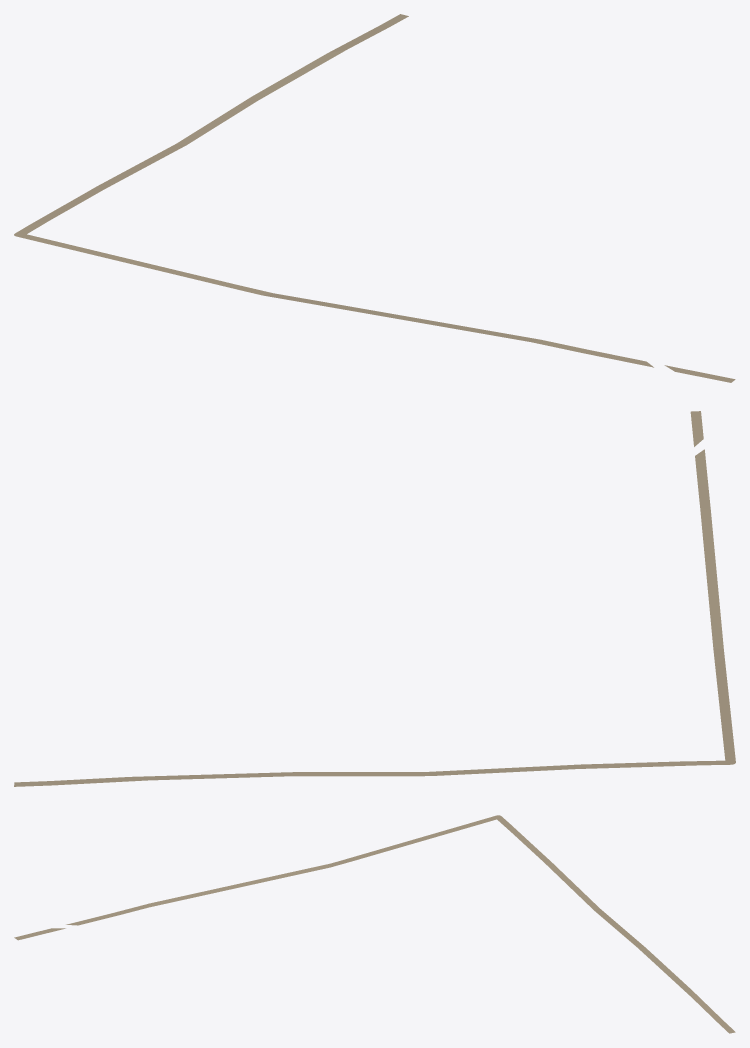
The model's file is farm_33_39_track.glb.
3 renders of one model, top to bottom at view 1: azimuth 30°, elevation 25°; view 2: azimuth 150°, elevation 25°; view 3: azimuth 270°, elevation 25°, orthographic. The views are drawn at different scales.
Visible parts, largest first — view 1: geometry_0; view 2: geometry_0; view 3: geometry_0.
Boxes of the visible parts, left/top/right/bottom form: geometry_0: left=14, top=14, right=735, bottom=382; geometry_0: left=14, top=411, right=735, bottom=786; geometry_0: left=14, top=815, right=735, bottom=1033.
Bounding box in the file's own units: 202 × 16.16 × 320.
